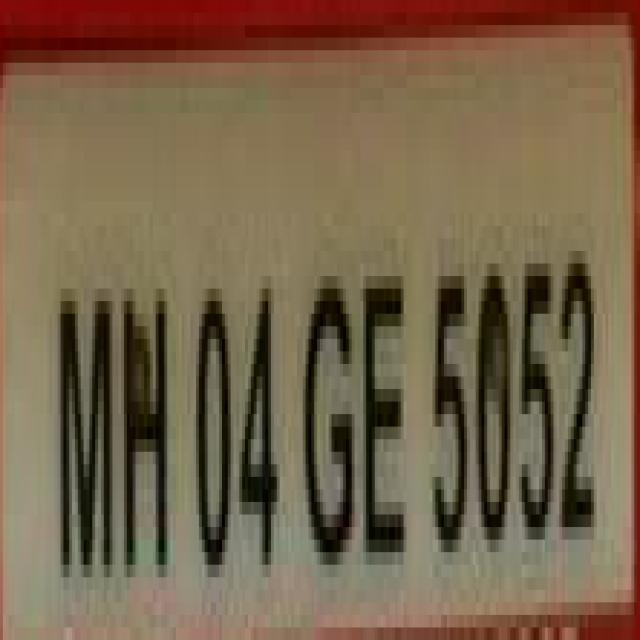license_plate: (0, 62, 608, 640)
